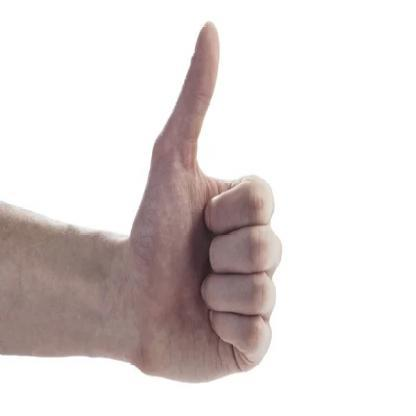thumb_up: (115, 19, 284, 386)
